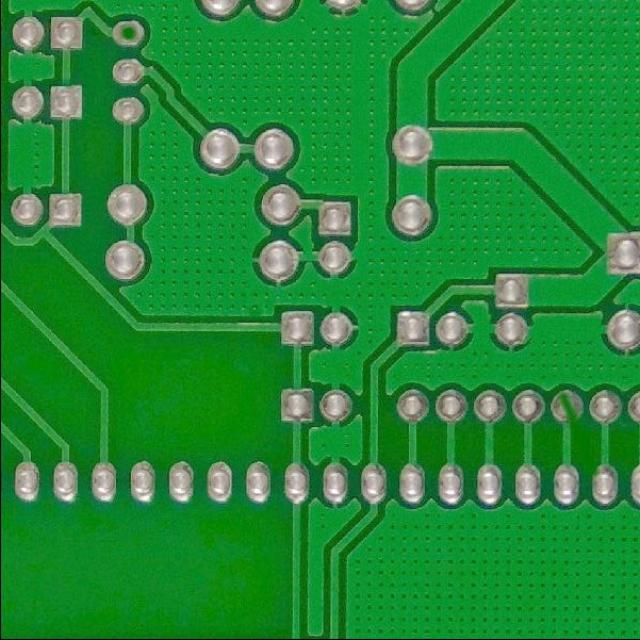Missing_Hole: (108, 16, 148, 49)
